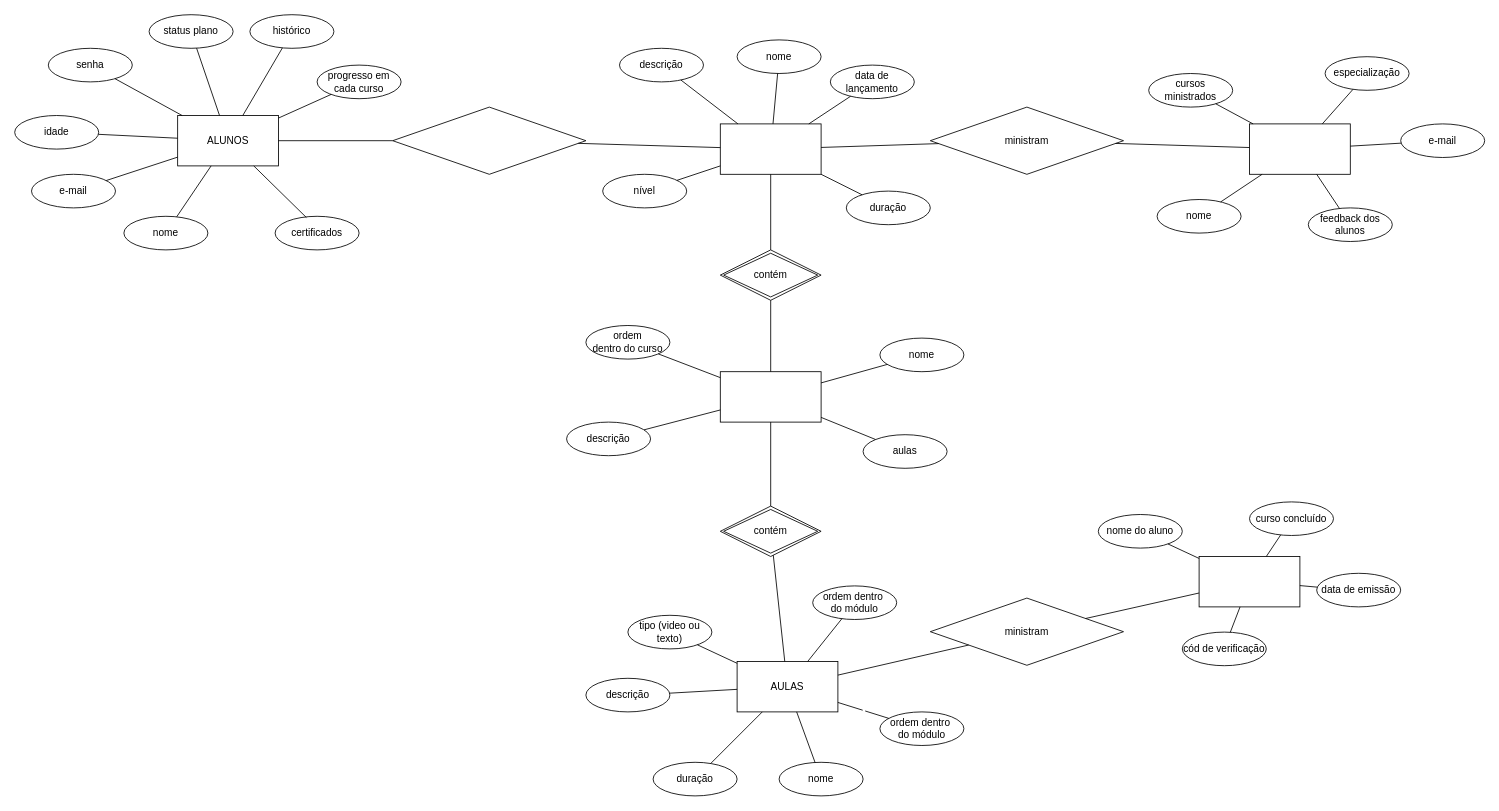
The diagram is 1499 pixels wide and 811 high, and some of its shapes have lost their labels. The centre of each missing label's shape, as x and y in pixels:
CERTIFICADO: (x=1249, y=581)
CURSOS: (x=770, y=148)
estudam: (x=489, y=140)
MÓDULOS: (x=770, y=396)
PROFESSORES: (x=1299, y=148)
